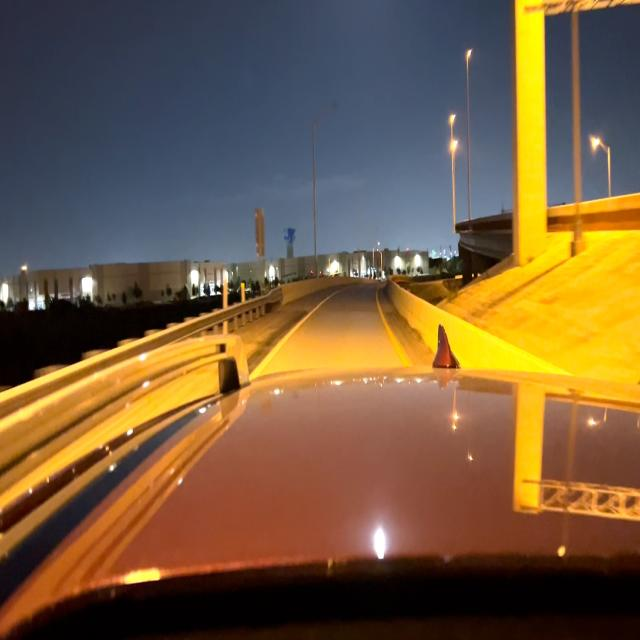back-of-sign: (256, 211, 264, 256)
